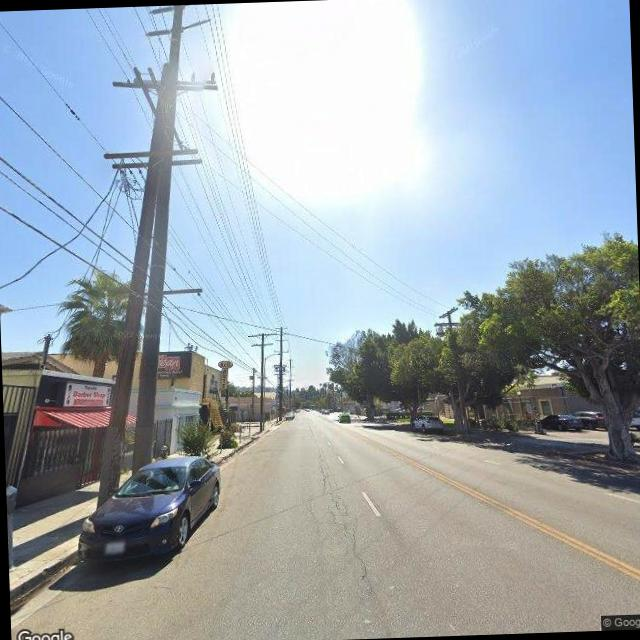crack: (305, 443, 366, 578)
